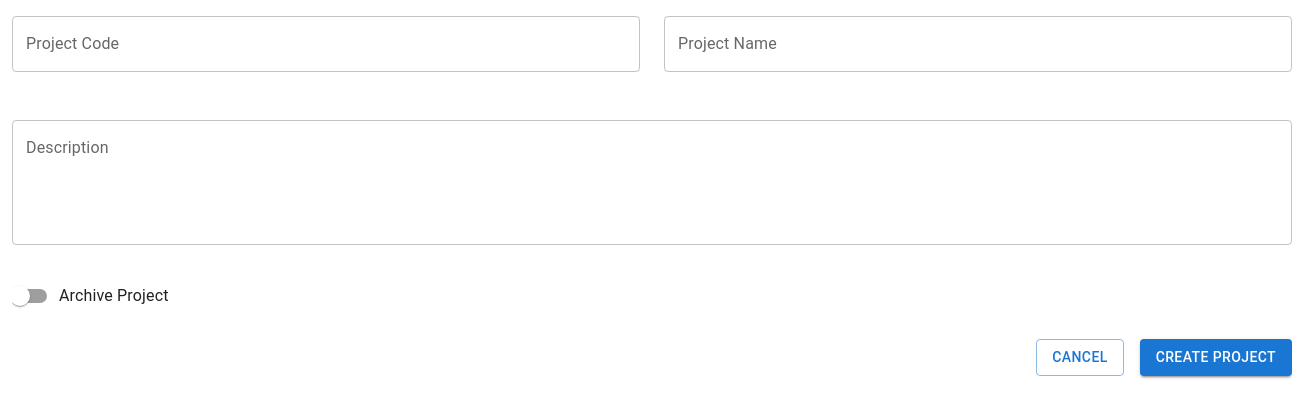
it: ProjectForm Component › validates project code format
Type "invalid" into the field labelled "Project Code".
click(326, 44); type("invalid")  # box [12,16,640,72]
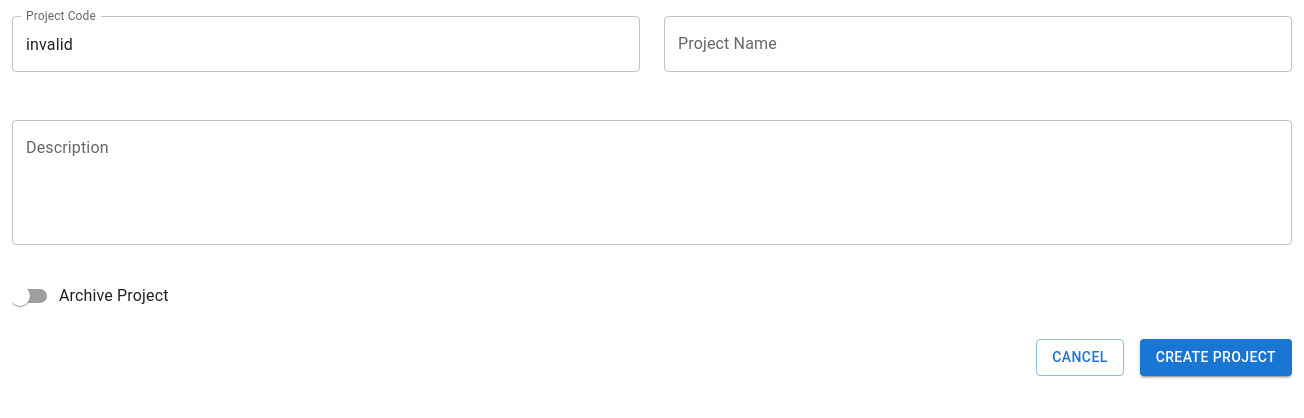
Click the button "Create Project".
click(1216, 357)  # box [1140,339,1292,376]
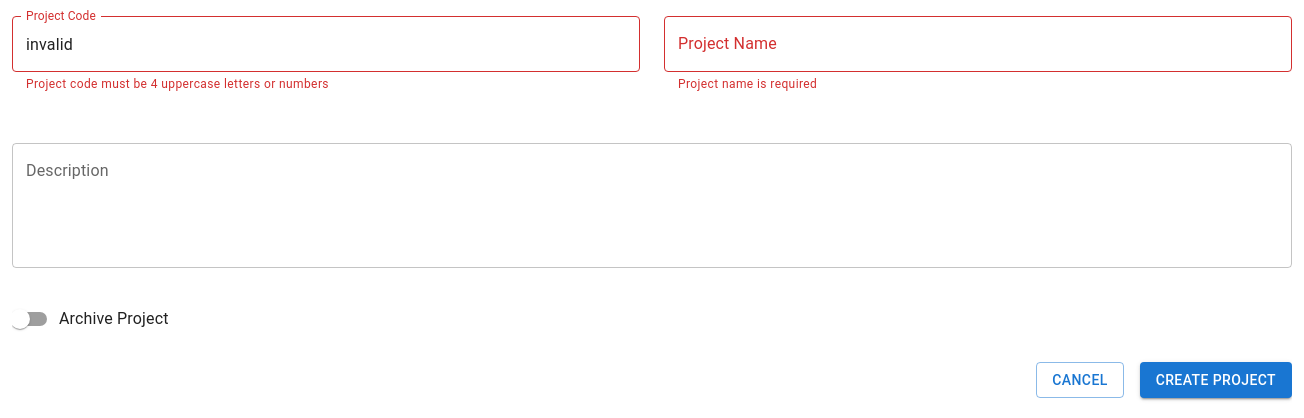
Expected: the text "Project code must be 4 uppercase letters or numbers" is shown, [26,77,329,91]
